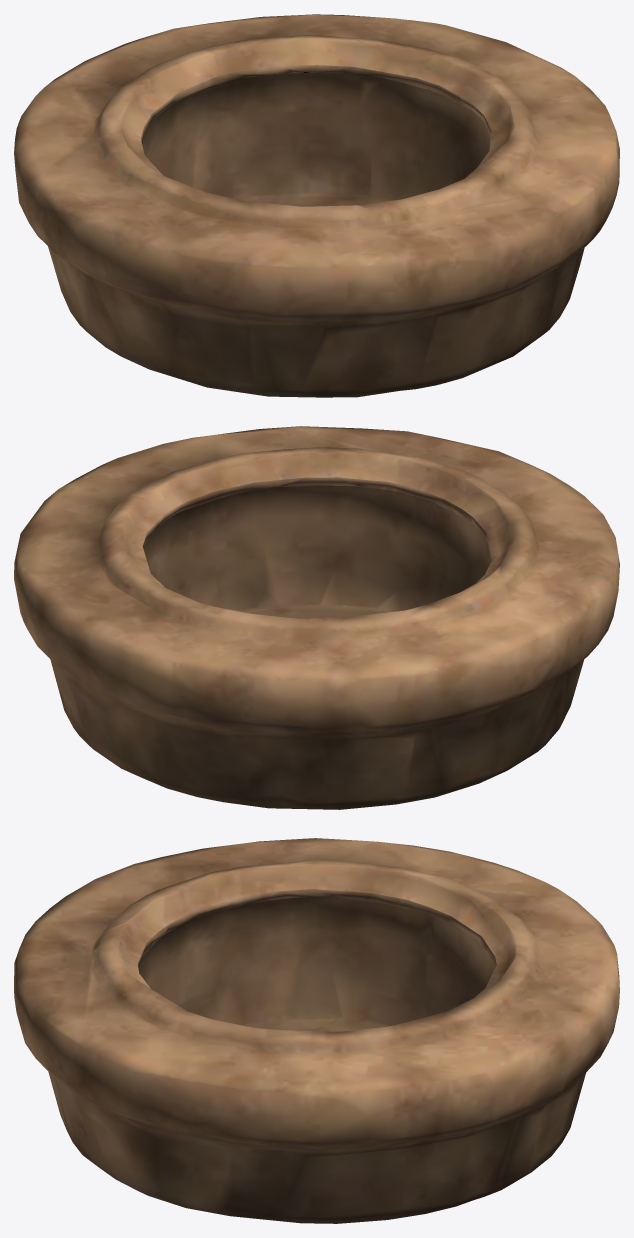
File: chipped-sandstone-well-v001.glb
The picture shows the model from 3 angles, top to bottom: view 1: azimuth 30°, elevation 25°; view 2: azimuth 150°, elevation 25°; view 3: azimuth 270°, elevation 25°; orthographic projection.
Parts seen in each view (by area): view 1: chipped-sandstone-well; view 2: chipped-sandstone-well; view 3: chipped-sandstone-well.
Part boxes in pixels (left/top/right/bottom): chipped-sandstone-well: left=14, top=14, right=619, bottom=397; chipped-sandstone-well: left=14, top=426, right=619, bottom=809; chipped-sandstone-well: left=14, top=838, right=619, bottom=1223.
Bounding box in the file's own units: 3.61 × 1.16 × 3.61.
1 material, 1 textured.
